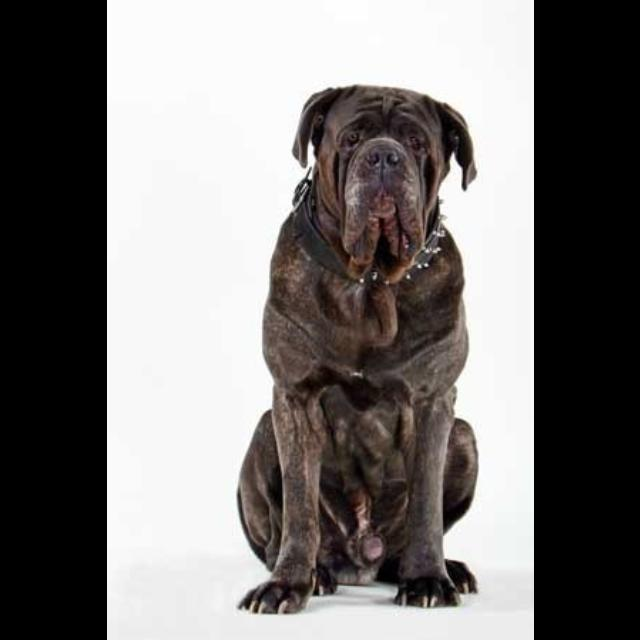mastino_napoletano: (236, 85, 481, 616)
